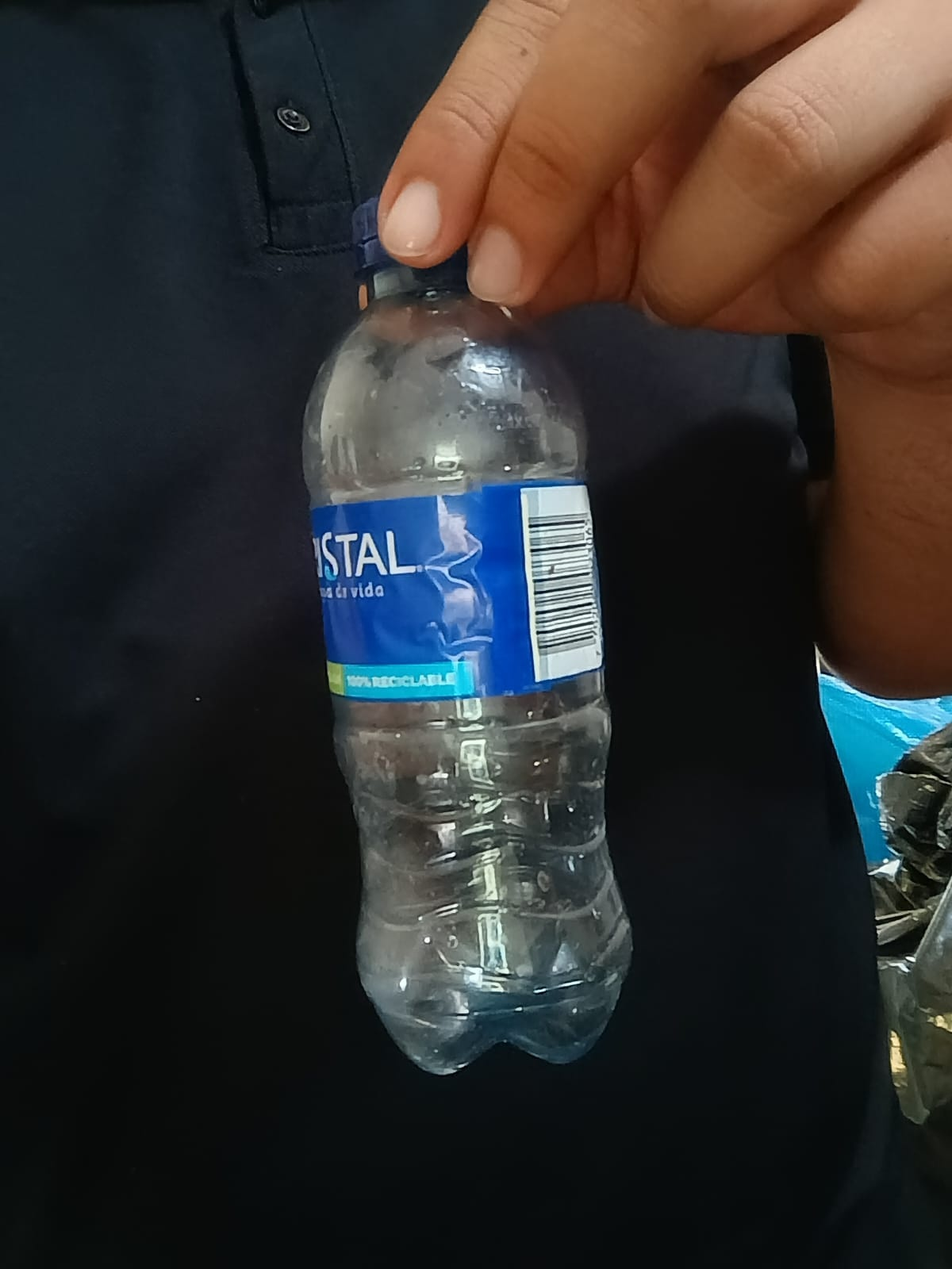Plastico: (299, 195, 636, 1078)
